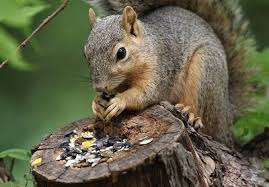squirrel: (85, 6, 232, 123)
